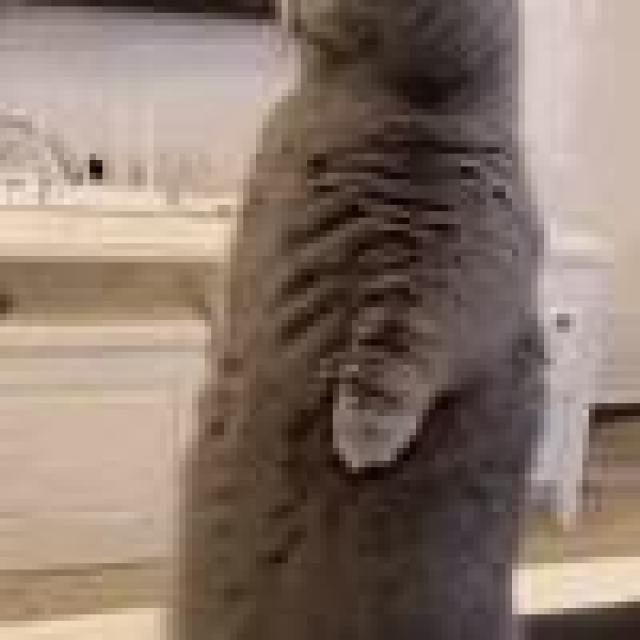Cat: (174, 0, 556, 640)
